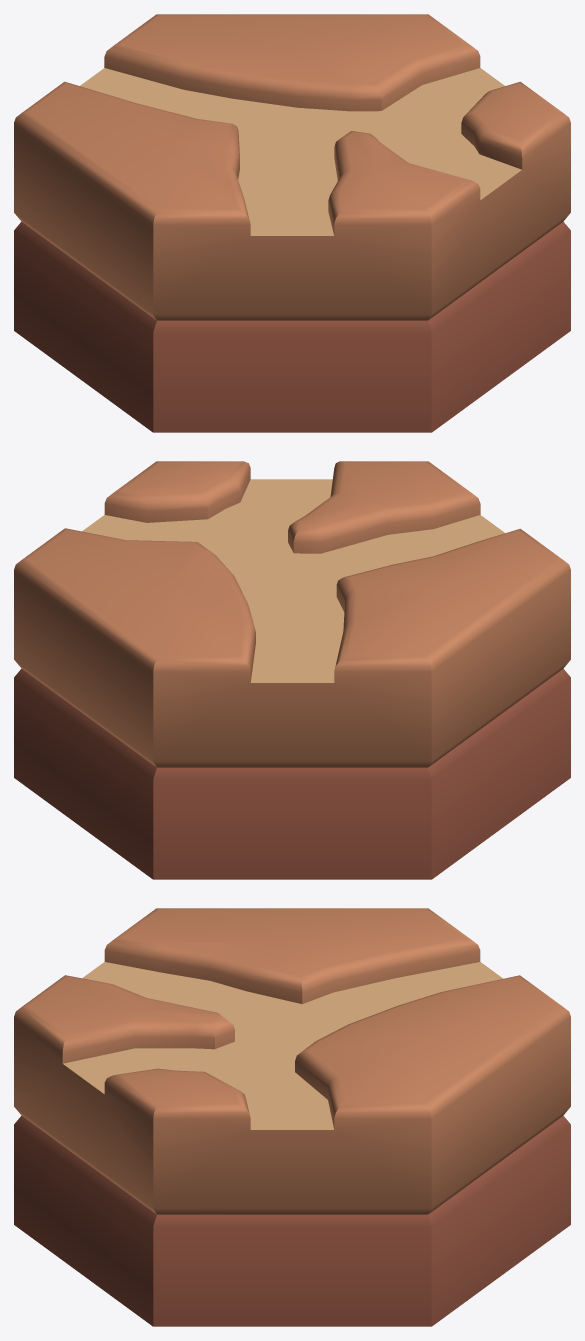
File: kaykit-hex-rock-roadi-detail.glb
3 views of the same model, one above another, from view 1: azimuth 30°, elevation 25°; view 2: azimuth 150°, elevation 25°; view 3: azimuth 270°, elevation 25° (orthographic).
Parts seen in each view (by area): view 1: hex_rock_roadI_detail; view 2: hex_rock_roadI_detail; view 3: hex_rock_roadI_detail.
Boxes of the visible parts, bbox=[...] form: hex_rock_roadI_detail: bbox=[14, 14, 570, 432]; hex_rock_roadI_detail: bbox=[14, 461, 570, 879]; hex_rock_roadI_detail: bbox=[14, 908, 570, 1326].
Size of the model in its own units: 2 by 1 by 2.31.
